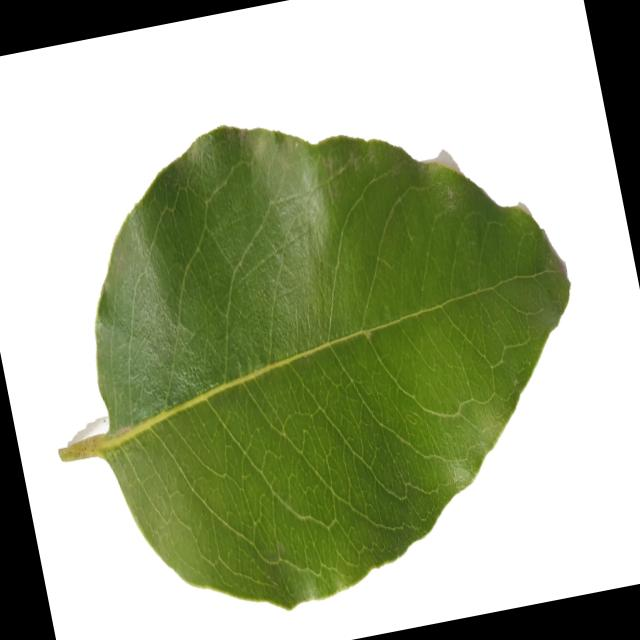Medicinal-Sandalwood: (1, 61, 622, 640)
